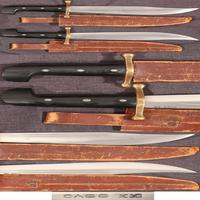knife: (7, 54, 200, 89), (4, 86, 200, 117), (15, 24, 200, 53), (13, 127, 198, 150), (15, 3, 199, 23), (7, 161, 198, 180)
